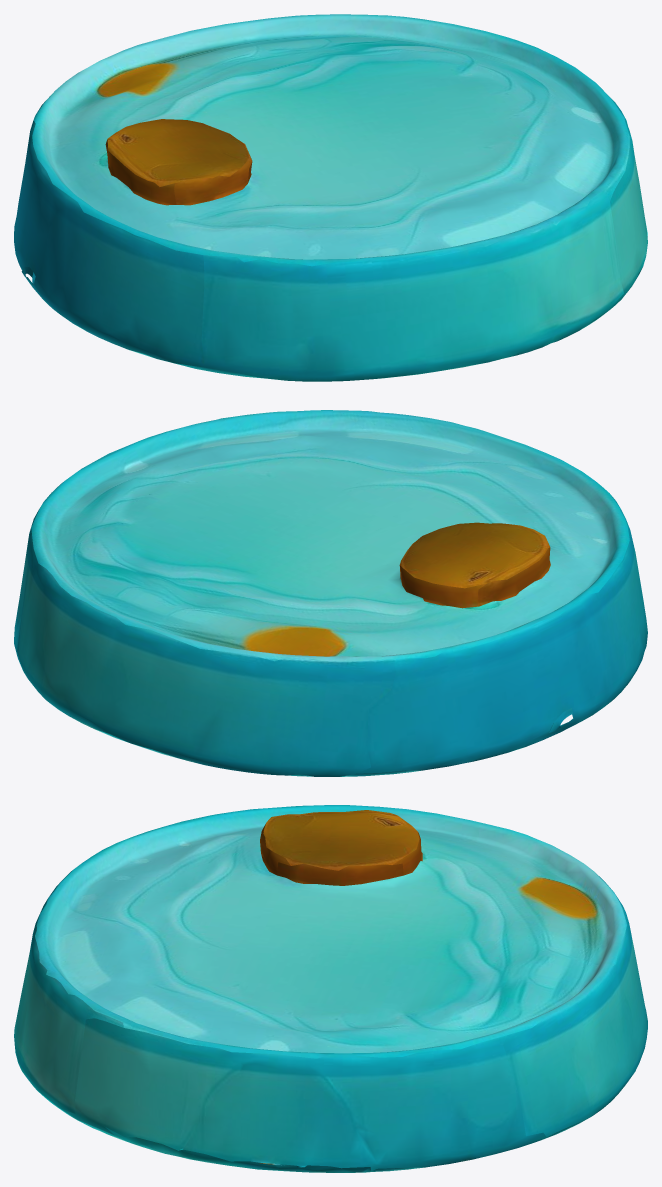
Rendered from credit_chip.glb.
3 views of the same model, one above another, from view 1: azimuth 30°, elevation 25°; view 2: azimuth 150°, elevation 25°; view 3: azimuth 270°, elevation 25° (orthographic).
Parts seen in each view (by area): view 1: credit_chip; view 2: credit_chip; view 3: credit_chip.
Part boxes in pixels (x1,y1,x2,y2): credit_chip: (14, 14, 647, 381); credit_chip: (14, 410, 647, 776); credit_chip: (14, 805, 647, 1172).
Bounding box in the file's own units: 1 × 0.2366 × 0.9988.
1 material, 1 textured.
